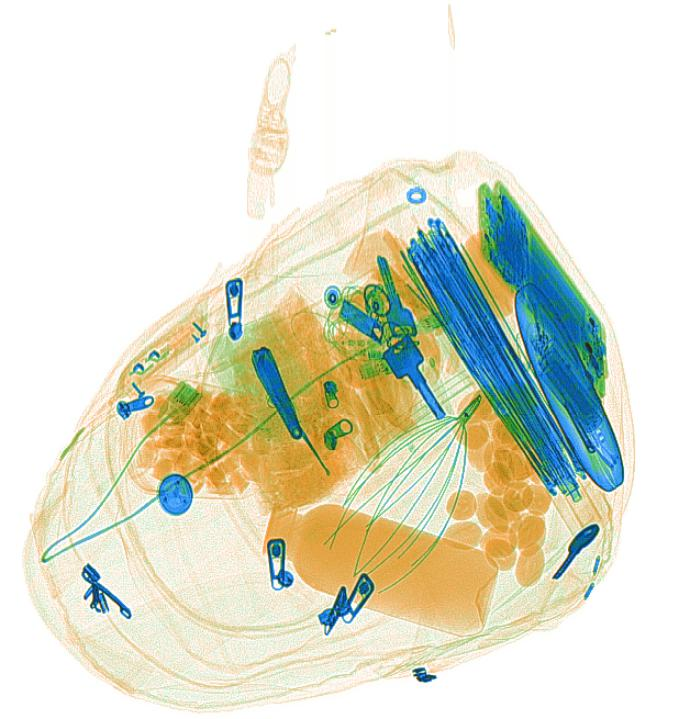battery: (526, 316, 606, 434)
